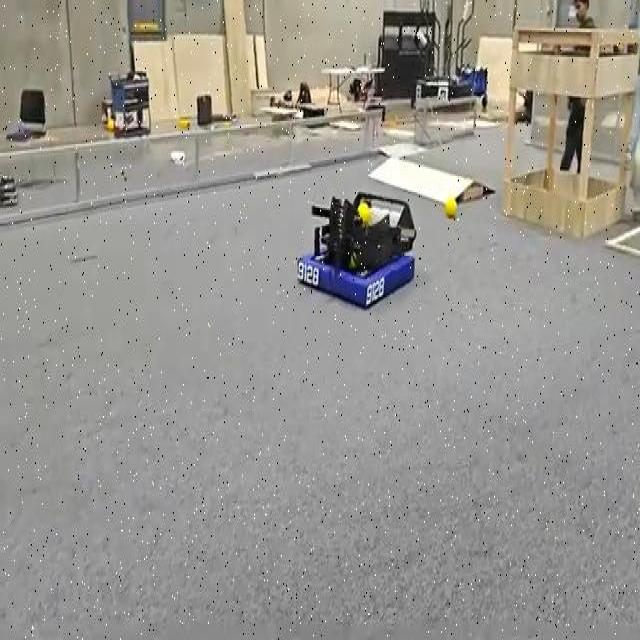Fuel: (357, 201, 371, 224), (445, 197, 457, 219), (444, 197, 457, 217)
